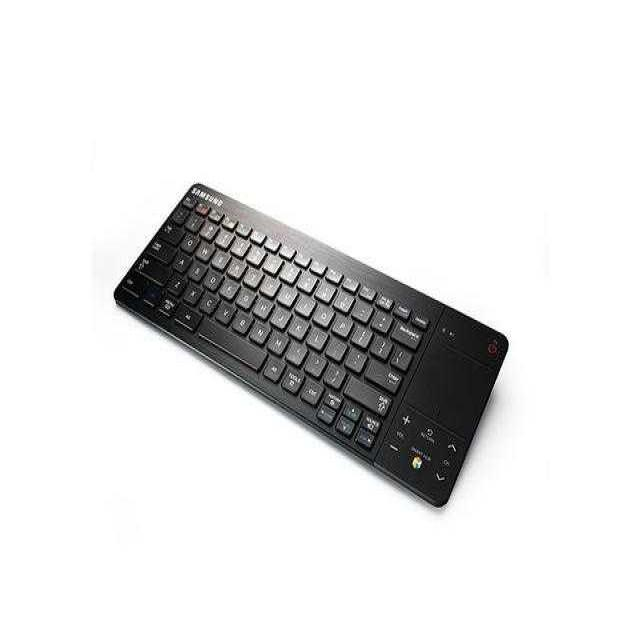keyboard: (105, 178, 516, 507)
